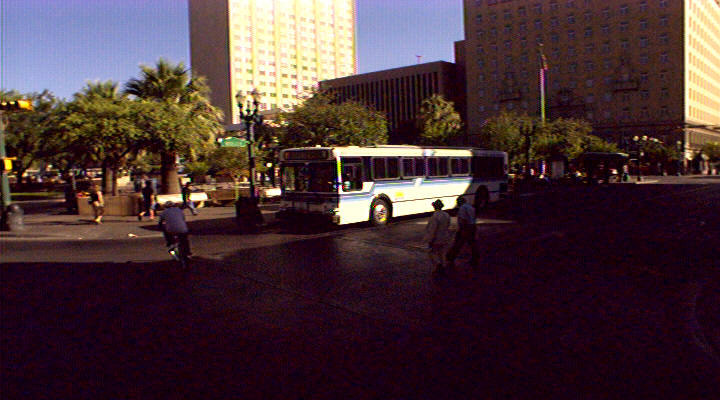Ramp: (65, 221, 170, 247)
